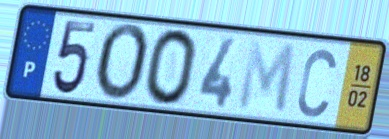4: (196, 35, 237, 111)
5: (50, 18, 99, 96)
C: (295, 45, 339, 120)
M: (235, 37, 298, 118)
O: (93, 21, 153, 105), (142, 26, 200, 109)
